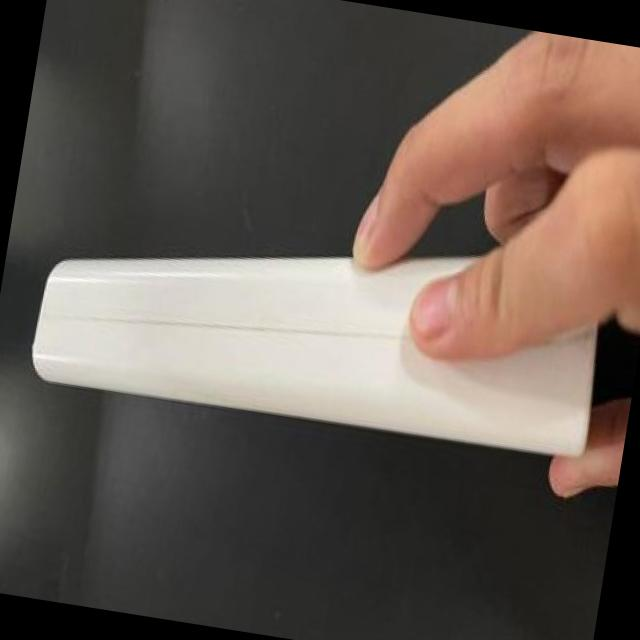portable-charger: (13, 201, 636, 484)
